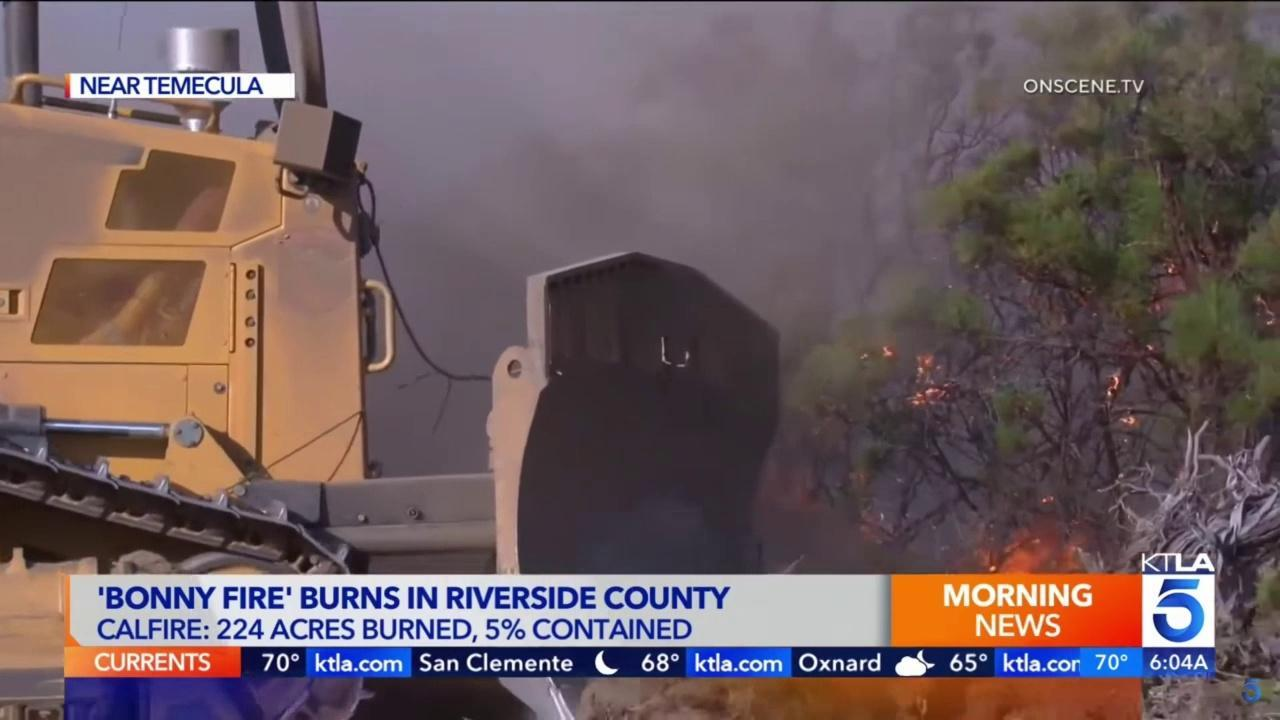fire: (977, 511, 1096, 572), (909, 351, 954, 409), (1105, 373, 1121, 399), (1119, 411, 1137, 425), (1144, 302, 1166, 313), (879, 344, 895, 359), (1038, 494, 1059, 504), (1166, 262, 1176, 274), (1144, 343, 1156, 352)
smoke: (311, 3, 1278, 573)
